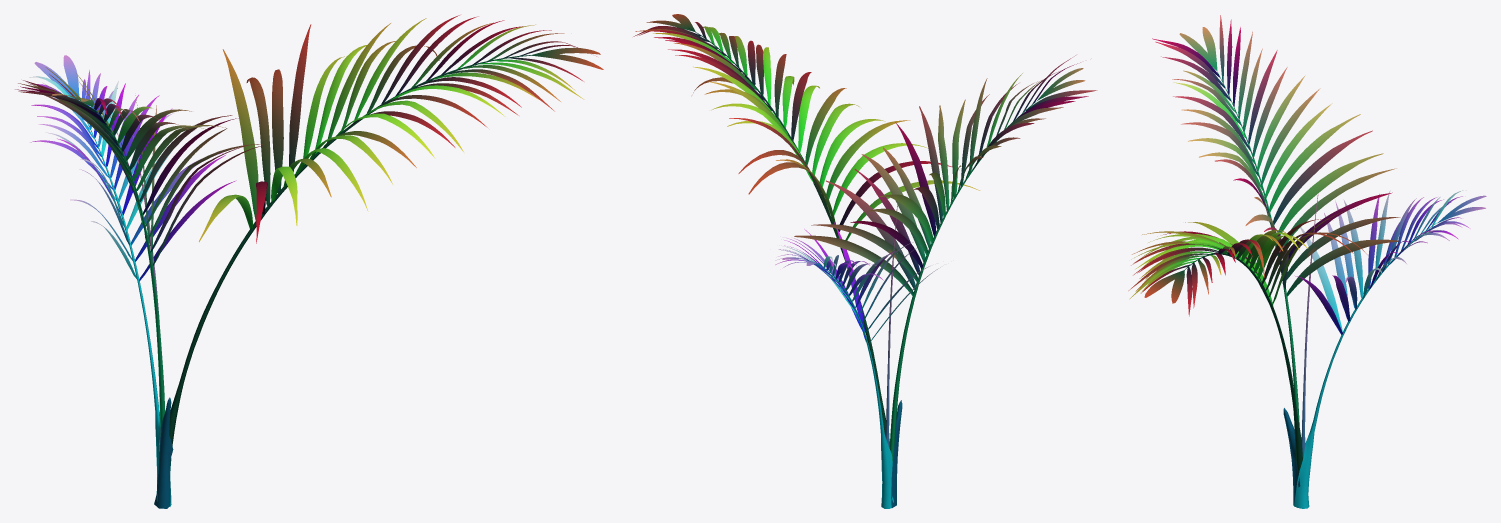
Rendered from ukgkcilia_VarA_LOD0.fbx.
The picture shows the model from 3 angles, left to right: view 1: azimuth 30°, elevation 25°; view 2: azimuth 150°, elevation 25°; view 3: azimuth 270°, elevation 25°; orthographic projection. The views are drawn at different scales.
Visible parts, largest first — view 1: _0g6s_VarA_LOD1; view 2: _0g6s_VarA_LOD1; view 3: _0g6s_VarA_LOD1.
Boxes of the visible parts, box(x1,y1,x2,y2) form: _0g6s_VarA_LOD1: box(15, 15, 603, 508); _0g6s_VarA_LOD1: box(633, 14, 1097, 508); _0g6s_VarA_LOD1: box(1128, 15, 1486, 508).
Size of the model in its own units: 174 by 146 by 116.
